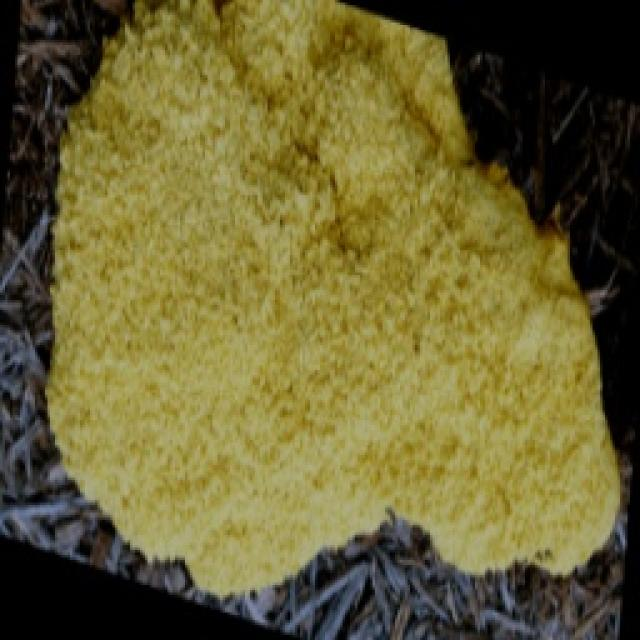Dog_vomit_slime_mold: (52, 6, 640, 604)
